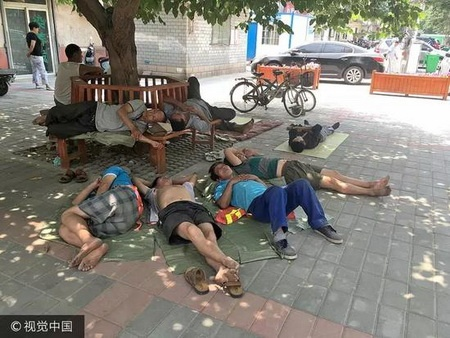falling: (281, 110, 343, 152)
